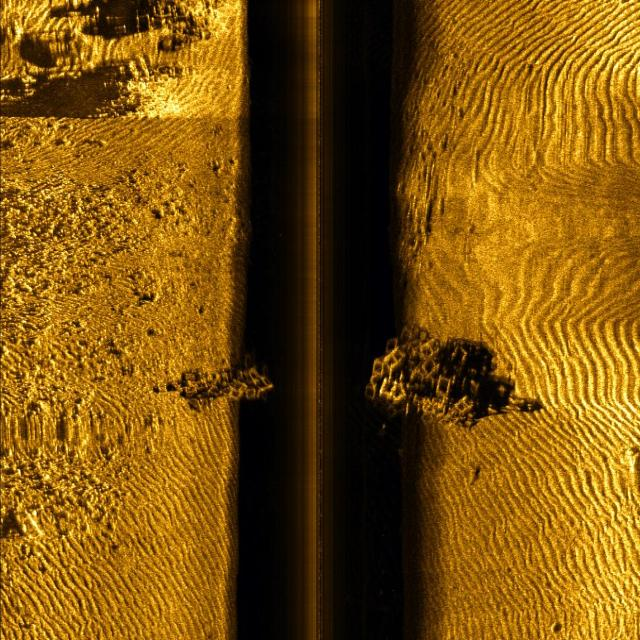artificial reef: (361, 314, 492, 439), (181, 349, 278, 416)
